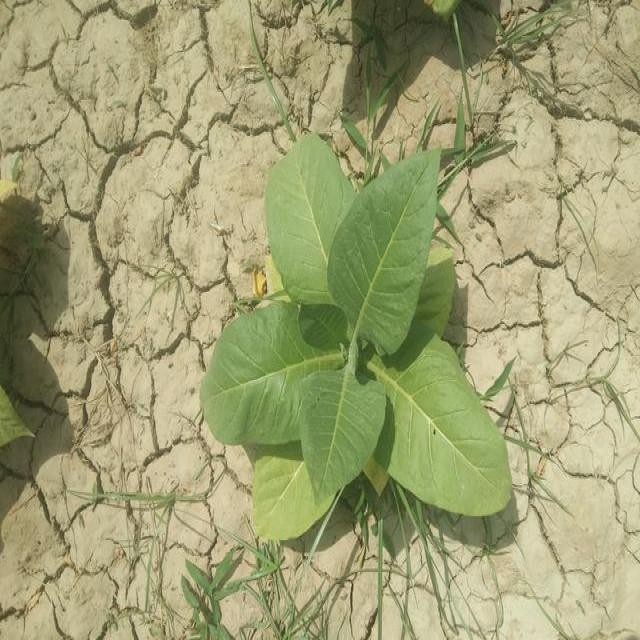crop: (206, 137, 514, 536)
